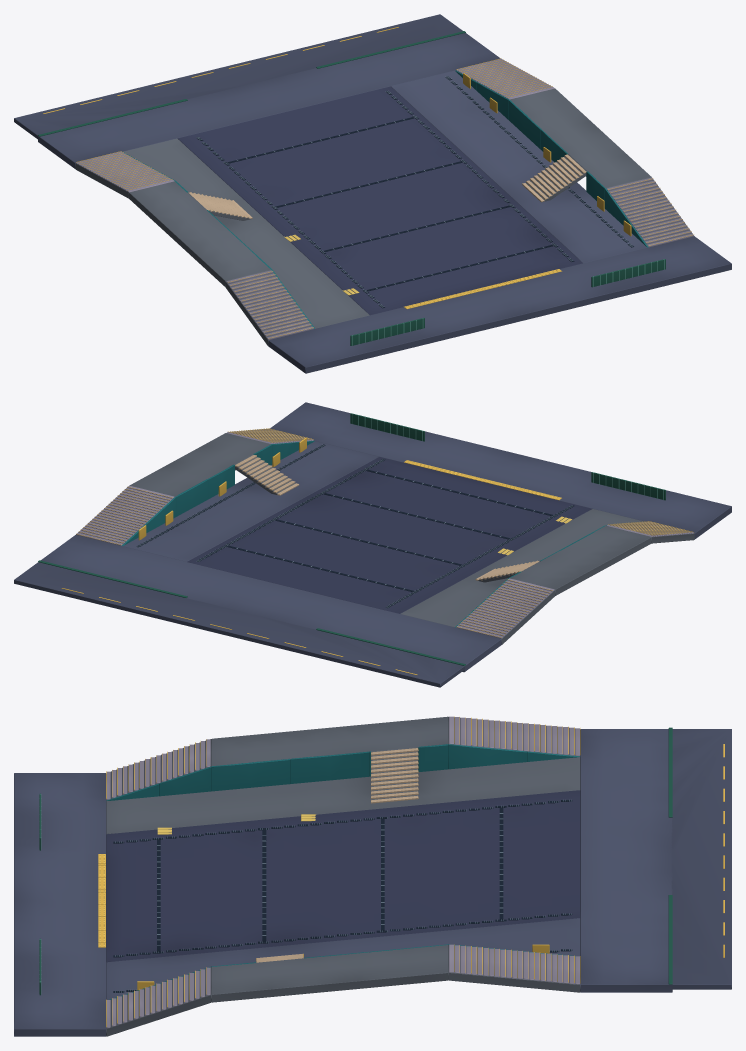
File: street.glb
The picture shows the model from 3 angles, top to bottom: view 1: azimuth 30°, elevation 25°; view 2: azimuth 150°, elevation 25°; view 3: azimuth 270°, elevation 25°; orthographic projection. The views are drawn at different scales.
Parts seen in each view (by area): view 1: street; view 2: street; view 3: street.
Part boxes in pixels (x1,y1,x2,y2): street: [14, 14, 731, 373]; street: [14, 402, 731, 687]; street: [14, 716, 731, 1036].
Bounding box in the file's own units: 46 × 6.93 × 54.5.
